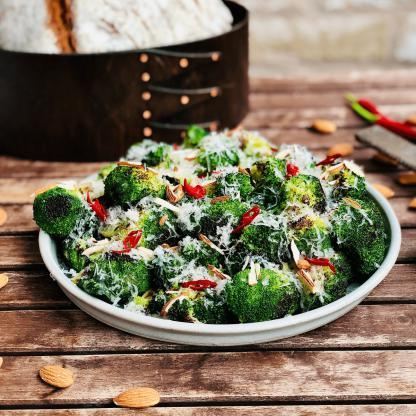broccoli: (32, 129, 388, 327)
